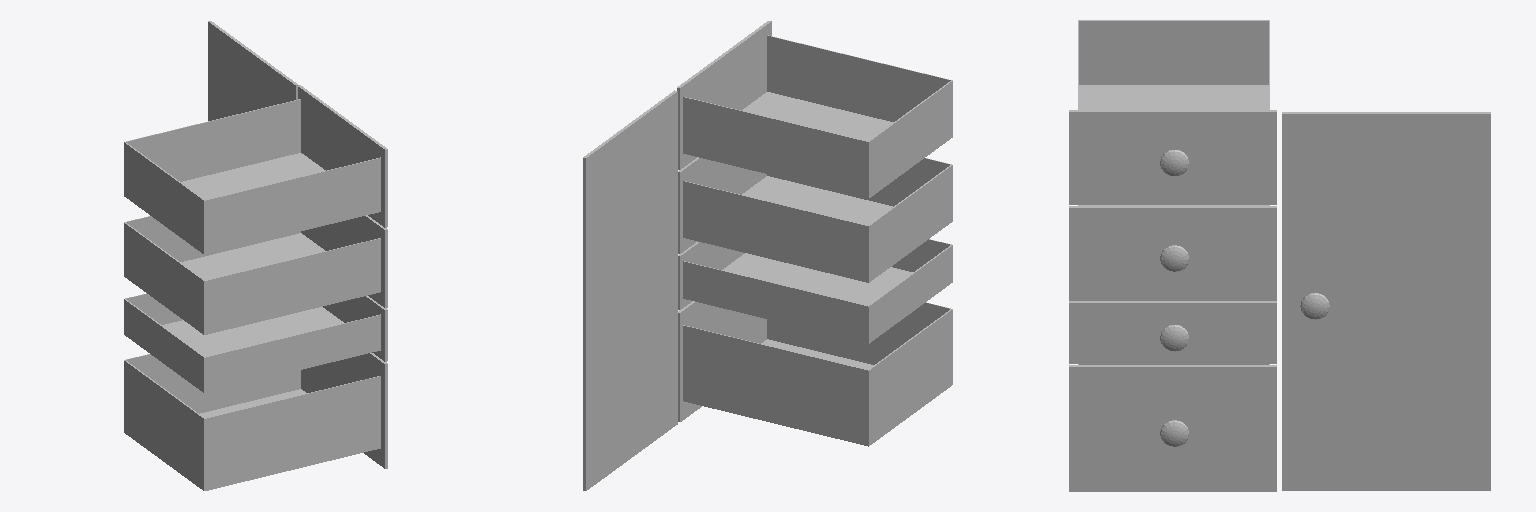
URDF robot description (my_urdf):
<?xml version='1.0' encoding='utf-8'?>
<robot name="my_urdf"><link name="base_link"><visual><origin xyz="0 0 0" rpy="0.0 0.0 0.0" /><material name="white"><color rgba="0.8 0.8 0.8 1" /></material><geometry><mesh filename="../meshes/cabinet.obj" scale="1 1 1" /></geometry></visual><collision><origin xyz="0 0 0" rpy="0.0 0.0 0.0" /><geometry><mesh filename="../meshes/cabinet.obj" scale="1 1 1" /></geometry></collision><inertial><mass value="1" /><inertia ixx="1e-4" ixy="0" ixz="0" iyy="1e-4" iyz="0" izz="1e-4" /></inertial></link><link name="drawer0"><visual><origin xyz="0 0 0" rpy="0 0 0" /><material name="white"><color rgba="0.8 0.8 0.8 1" /></material><geometry><mesh filename="../meshes/parts/drawer.obj" scale="1 1.98 0.98" /></geometry></visual><collision><origin xyz="0 0 0" rpy="0 0 0" /><geometry><mesh filename="../meshes/parts/drawer.obj" scale="1 1.98 0.98" /></geometry></collision><inertial><mass value="0.2" /><inertia ixx="1e-4" ixy="0" ixz="0" iyy="1e-4" iyz="0" izz="1e-4" /></inertial></link><joint name="drawer0_to_base_link" type="prismatic"><axis xyz="1 0 0" /><limit effort="5" lower="0" upper="0.4" velocity="2.283" /><origin xyz="0 0.0 0.75" rpy="0.0 0.0 0.0" /><parent link="base_link" /><child link="drawer0" /></joint><link name="drawer1"><visual><origin xyz="0 0 0" rpy="0 0 0" /><material name="white"><color rgba="0.8 0.8 0.8 1" /></material><geometry><mesh filename="../meshes/parts/drawer.obj" scale="1 1.98 0.98" /></geometry></visual><collision><origin xyz="0 0 0" rpy="0 0 0" /><geometry><mesh filename="../meshes/parts/drawer.obj" scale="1 1.98 0.98" /></geometry></collision><inertial><mass value="0.2" /><inertia ixx="1e-4" ixy="0" ixz="0" iyy="1e-4" iyz="0" izz="1e-4" /></inertial></link><joint name="drawer1_to_base_link" type="prismatic"><axis xyz="1 0 0" /><limit effort="5" lower="0" upper="0.4" velocity="2.283" /><origin xyz="0 0.0 0.5" rpy="0.0 0.0 0.0" /><parent link="base_link" /><child link="drawer1" /></joint><link name="drawer2"><visual><origin xyz="0 0 0" rpy="0 0 0" /><material name="white"><color rgba="0.8 0.8 0.8 1" /></material><geometry><mesh filename="../meshes/parts/drawer.obj" scale="1 1.98 0.6466666666666666" /></geometry></visual><collision><origin xyz="0 0 0" rpy="0 0 0" /><geometry><mesh filename="../meshes/parts/drawer.obj" scale="1 1.98 0.6466666666666666" /></geometry></collision><inertial><mass value="0.2" /><inertia ixx="1e-4" ixy="0" ixz="0" iyy="1e-4" iyz="0" izz="1e-4" /></inertial></link><joint name="drawer2_to_base_link" type="prismatic"><axis xyz="1 0 0" /><limit effort="5" lower="0" upper="0.4" velocity="2.283" /><origin xyz="0 0.0 0.3333333333333333" rpy="0.0 0.0 0.0" /><parent link="base_link" /><child link="drawer2" /></joint><link name="drawer3"><visual><origin xyz="0 0 0" rpy="0 0 0" /><material name="white"><color rgba="0.8 0.8 0.8 1" /></material><geometry><mesh filename="../meshes/parts/drawer.obj" scale="1 1.98 1.3133333333333332" /></geometry></visual><collision><origin xyz="0 0 0" rpy="0 0 0" /><geometry><mesh filename="../meshes/parts/drawer.obj" scale="1 1.98 1.3133333333333332" /></geometry></collision><inertial><mass value="0.2" /><inertia ixx="1e-4" ixy="0" ixz="0" iyy="1e-4" iyz="0" izz="1e-4" /></inertial></link><joint name="drawer3_to_base_link" type="prismatic"><axis xyz="1 0 0" /><limit effort="5" lower="0" upper="0.4" velocity="2.283" /><origin xyz="0 0.0 0.0" rpy="0.0 0.0 0.0" /><parent link="base_link" /><child link="drawer3" /></joint><link name="doorR4"><visual><origin xyz="0 0 0" rpy="0 0 0" /><material name="white"><color rgba="0.8 0.8 0.8 1" /></material><geometry><mesh filename="../meshes/parts/doorR.obj" scale="1 1.99 3.99" /></geometry></visual><collision><origin xyz="0 0 0" rpy="0 0 0" /><geometry><mesh filename="../meshes/parts/doorR.obj" scale="1 1.99 3.99" /></geometry></collision><inertial><mass value="0.2" /><inertia ixx="1e-4" ixy="0" ixz="0" iyy="1e-4" iyz="0" izz="1e-4" /></inertial></link><joint name="doorR4_to_base_link" type="revolute"><axis xyz="0 0 1" /><limit effort="5" lower="0" upper="1.57" velocity="2.283" /><origin xyz="0 1.0 0.0" rpy="-0.0 -0.0 -0.0" /><parent link="base_link" /><child link="doorR4" /></joint><link name="knob5"><visual><origin xyz="0 0 0" rpy="0 0 0" /><material name="white"><color rgba="0.8 0.8 0.8 1" /></material><geometry><mesh filename="../meshes/parts/knob.obj" scale="1 1 1" /></geometry></visual><collision><origin xyz="0 0 0" rpy="0 0 0" /><geometry><mesh filename="../meshes/parts/knob.obj" scale="1 1 1" /></geometry></collision><inertial><mass value="0.2" /><inertia ixx="1e-4" ixy="0" ixz="0" iyy="1e-4" iyz="0" izz="1e-4" /></inertial></link><joint name="knob5_to_drawer0" type="fixed"><axis xyz="0 0 1" /><limit effort="5" lower="0" upper="1.57" velocity="2.283" /><origin xyz="0 0.25 0.125" rpy="1.5707963267948963 0.0 0.0" /><parent link="drawer0" /><child link="knob5" /></joint><link name="knob6"><visual><origin xyz="0 0 0" rpy="0 0 0" /><material name="white"><color rgba="0.8 0.8 0.8 1" /></material><geometry><mesh filename="../meshes/parts/knob.obj" scale="1 1 1" /></geometry></visual><collision><origin xyz="0 0 0" rpy="0 0 0" /><geometry><mesh filename="../meshes/parts/knob.obj" scale="1 1 1" /></geometry></collision><inertial><mass value="0.2" /><inertia ixx="1e-4" ixy="0" ixz="0" iyy="1e-4" iyz="0" izz="1e-4" /></inertial></link><joint name="knob6_to_drawer1" type="fixed"><axis xyz="0 0 1" /><limit effort="5" lower="0" upper="1.57" velocity="2.283" /><origin xyz="0 0.25 0.125" rpy="1.5707963267948963 0.0 0.0" /><parent link="drawer1" /><child link="knob6" /></joint><link name="knob7"><visual><origin xyz="0 0 0" rpy="0 0 0" /><material name="white"><color rgba="0.8 0.8 0.8 1" /></material><geometry><mesh filename="../meshes/parts/knob.obj" scale="1 1 1" /></geometry></visual><collision><origin xyz="0 0 0" rpy="0 0 0" /><geometry><mesh filename="../meshes/parts/knob.obj" scale="1 1 1" /></geometry></collision><inertial><mass value="0.2" /><inertia ixx="1e-4" ixy="0" ixz="0" iyy="1e-4" iyz="0" izz="1e-4" /></inertial></link><joint name="knob7_to_drawer2" type="fixed"><axis xyz="0 0 1" /><limit effort="5" lower="0" upper="1.57" velocity="2.283" /><origin xyz="0 0.25 0.08333333333333333" rpy="1.5707963267948963 0.0 0.0" /><parent link="drawer2" /><child link="knob7" /></joint><link name="knob8"><visual><origin xyz="0 0 0" rpy="0 0 0" /><material name="white"><color rgba="0.8 0.8 0.8 1" /></material><geometry><mesh filename="../meshes/parts/knob.obj" scale="1 1 1" /></geometry></visual><collision><origin xyz="0 0 0" rpy="0 0 0" /><geometry><mesh filename="../meshes/parts/knob.obj" scale="1 1 1" /></geometry></collision><inertial><mass value="0.2" /><inertia ixx="1e-4" ixy="0" ixz="0" iyy="1e-4" iyz="0" izz="1e-4" /></inertial></link><joint name="knob8_to_drawer3" type="fixed"><axis xyz="0 0 1" /><limit effort="5" lower="0" upper="1.57" velocity="2.283" /><origin xyz="0 0.25 0.16666666666666666" rpy="1.5707963267948963 0.0 0.0" /><parent link="drawer3" /><child link="knob8" /></joint><link name="knob9"><visual><origin xyz="0 0 0" rpy="0 0 0" /><material name="white"><color rgba="0.8 0.8 0.8 1" /></material><geometry><mesh filename="../meshes/parts/knob.obj" scale="1 1 1" /></geometry></visual><collision><origin xyz="0 0 0" rpy="0 0 0" /><geometry><mesh filename="../meshes/parts/knob.obj" scale="1 1 1" /></geometry></collision><inertial><mass value="0.2" /><inertia ixx="1e-4" ixy="0" ixz="0" iyy="1e-4" iyz="0" izz="1e-4" /></inertial></link><joint name="knob9_to_doorR4" type="fixed"><axis xyz="1 0 0" /><limit effort="5" lower="0" upper="1.57" velocity="2.283" /><origin xyz="0 -0.4166666666666667 0.5" rpy="0.0 0.0 0.0" /><parent link="doorR4" /><child link="knob9" /></joint></robot>

--- Render facts (derived) ---
Views: 3 orthographic renders of the robot side by side, from view 1: azimuth 30°, elevation 25°; view 2: azimuth 150°, elevation 25°; view 3: azimuth 270°, elevation 25°.
Model my_urdf with 11 links and 10 joints (1 revolute, 4 prismatic, 5 fixed), rooted at base_link, posed every joint at zero.
Visible links, largest first — view 1: drawer0, drawer3, drawer1, drawer2, doorR4; view 2: drawer0, doorR4, drawer3, drawer1, drawer2; view 3: doorR4, drawer0, drawer3, drawer1, drawer2, knob9, knob5, knob7, knob6, knob8.
Boxes of the visible links, <box> form: drawer0: <box>124,85,387,254</box>; drawer3: <box>124,353,387,490</box>; drawer1: <box>124,215,387,334</box>; drawer2: <box>124,293,387,392</box>; doorR4: <box>208,21,298,120</box>; drawer0: <box>677,21,952,198</box>; doorR4: <box>583,90,677,490</box>; drawer3: <box>678,301,952,446</box>; drawer1: <box>678,157,952,282</box>; drawer2: <box>678,239,952,343</box>; doorR4: <box>1282,112,1490,490</box>; drawer0: <box>1069,20,1276,204</box>; drawer3: <box>1069,364,1276,491</box>; drawer1: <box>1069,205,1276,300</box>; drawer2: <box>1069,301,1276,363</box>; knob9: <box>1300,293,1329,319</box>; knob5: <box>1160,150,1188,176</box>; knob7: <box>1160,325,1188,351</box>; knob6: <box>1160,245,1188,271</box>; knob8: <box>1160,420,1188,446</box>.
Size in the robot's own frame: 0.6304 by 1 by 0.993 metres.
10 mesh visuals loaded from 4 distinct referenced files (3 OBJ); not drawn: 1 (reference not matched to a file when rendering).